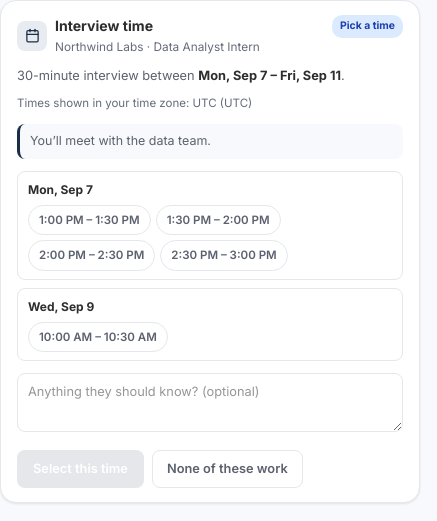
it: Step 2 — AvailabilityRequestCard › lets the student pick one offered slot
The width and height of the screenshot is (437, 521).
Expected: the text "Interview time" is shown, x1=55 y1=17 x2=153 y2=34
Expected: the text "Times shown in your time zone: UTC (UTC)" is shown, x1=17 y1=96 x2=252 y2=110
Click the radio button labelled "1:30 PM – 2:00 PM".
click(218, 220)  # box x1=156 y1=205 x2=281 y2=235
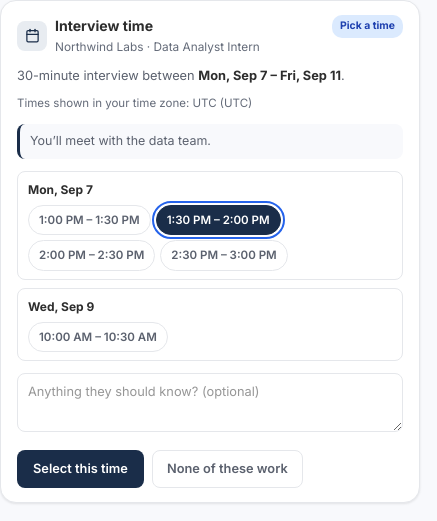
Now the radio button labelled "1:30 PM – 2:00 PM" is checked, box x1=156 y1=205 x2=281 y2=235
// Picking another replaces the first — one slot only.
Click the radio button labelled "2:00 PM – 2:30 PM".
click(92, 256)  # box x1=28 y1=240 x2=155 y2=271
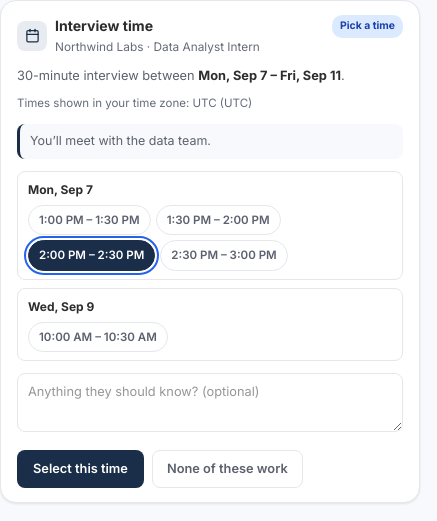
Now the radio button labelled "1:30 PM – 2:00 PM" is not checked
Click the radio button labelled "1:30 PM – 2:00 PM".
click(218, 220)  # box x1=156 y1=205 x2=281 y2=235
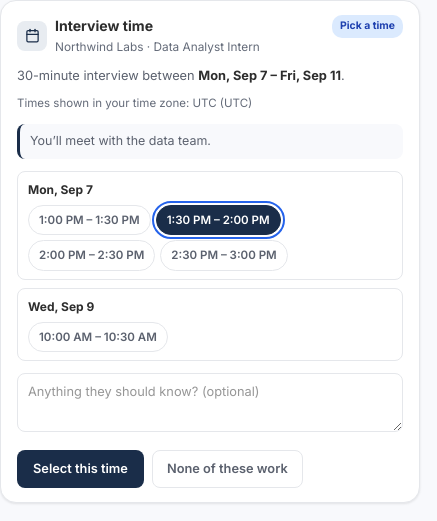
Click the button "Select this time".
click(80, 469)  # box x1=17 y1=450 x2=144 y2=488
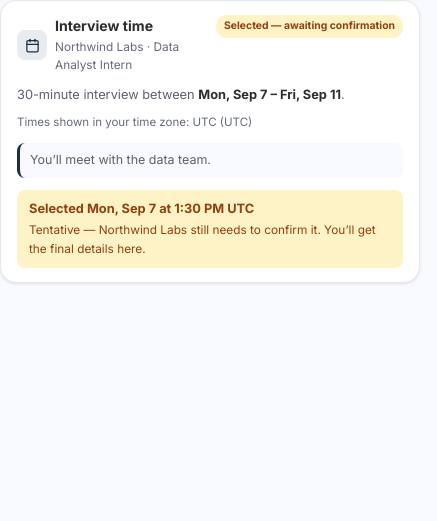
Now the text "Tentative — Northwind Labs still needs to confirm it" is shown, box x1=29 y1=223 x2=376 y2=256
